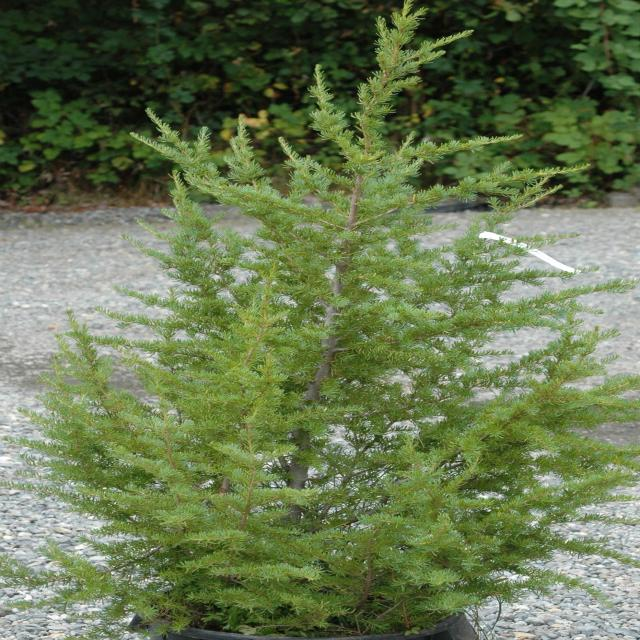Tsuga mertensiana: (0, 1, 636, 640)
